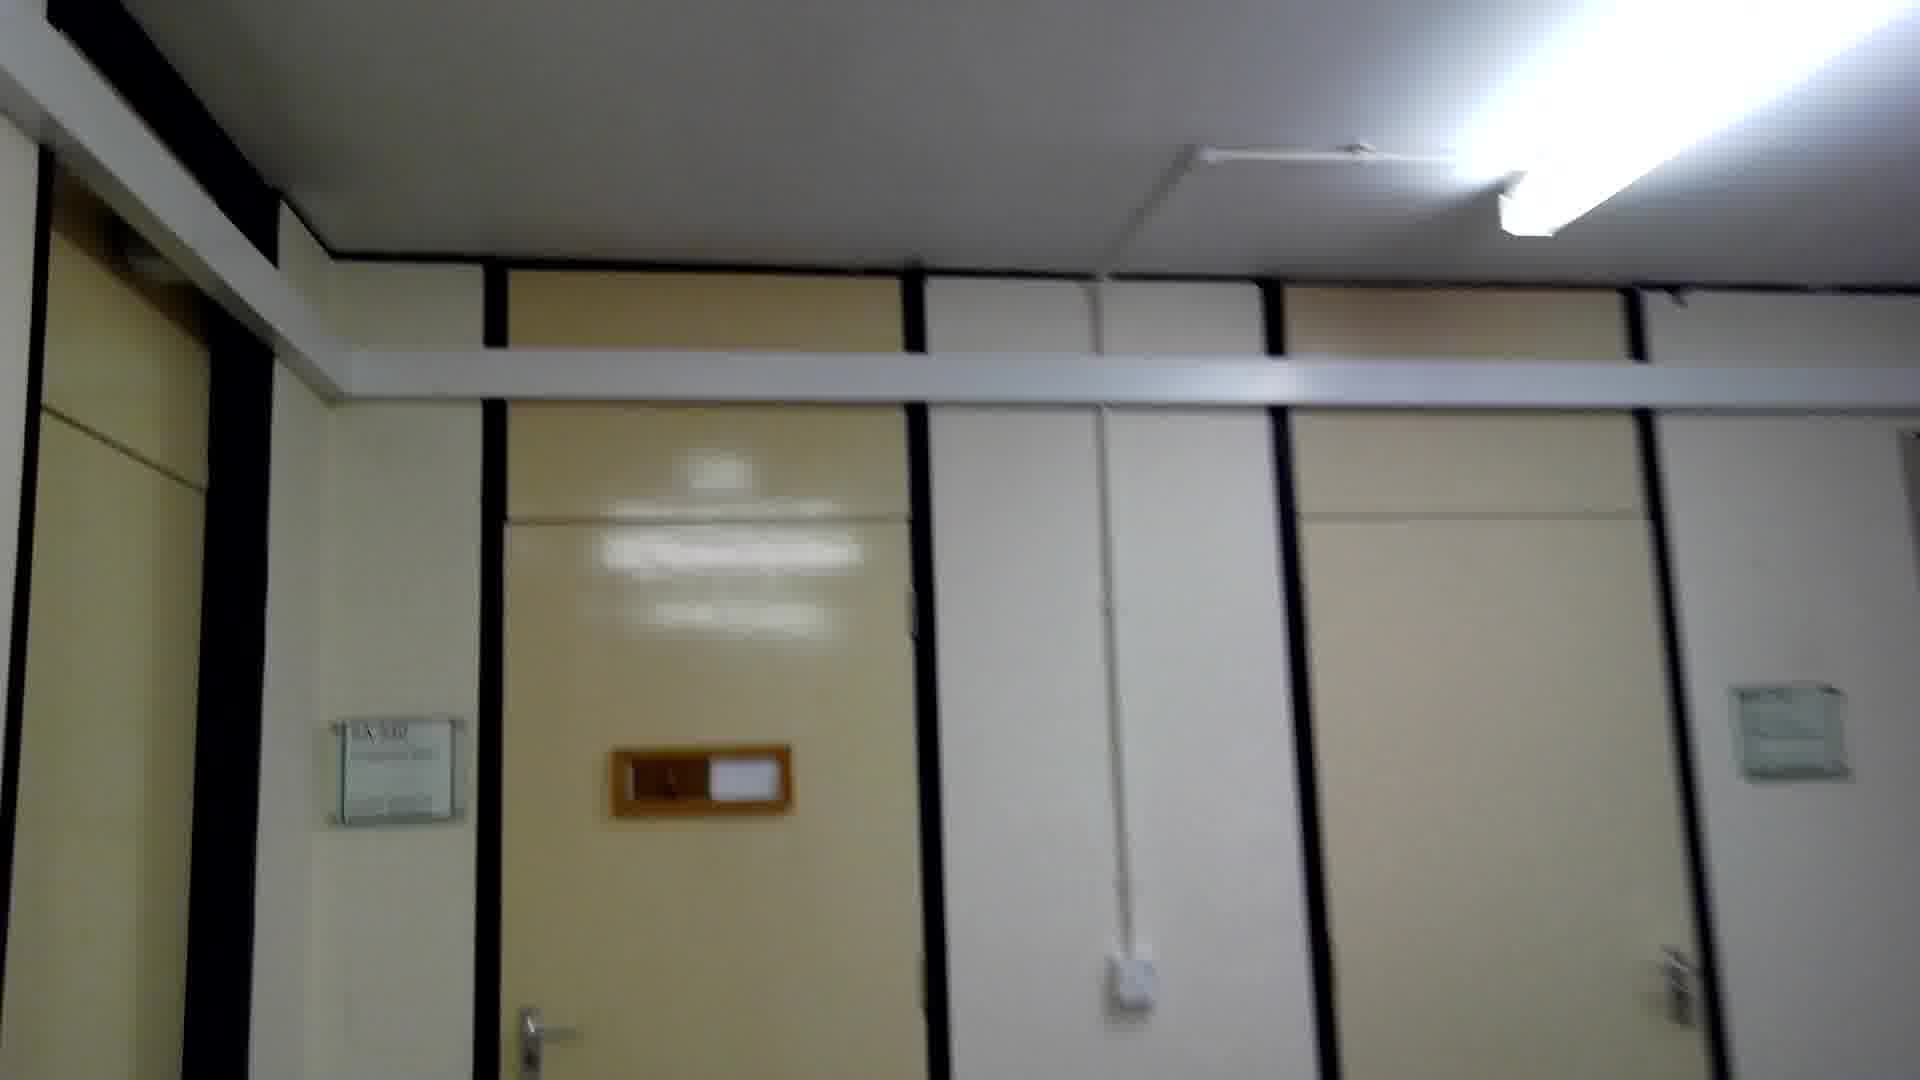Door: (454, 501, 997, 1080), (1271, 484, 1739, 1080)
